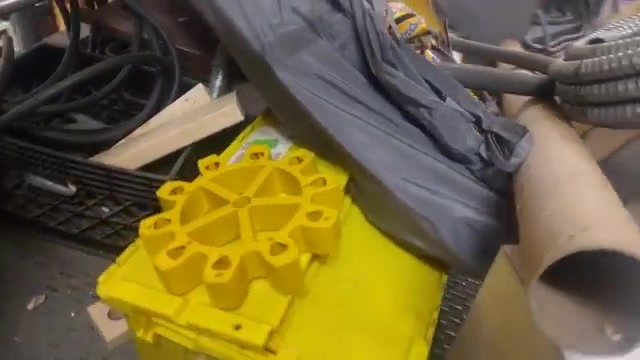gear: (124, 141, 364, 308)
